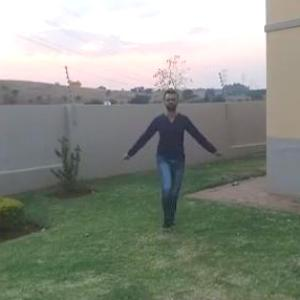land: (126, 92, 214, 217)
